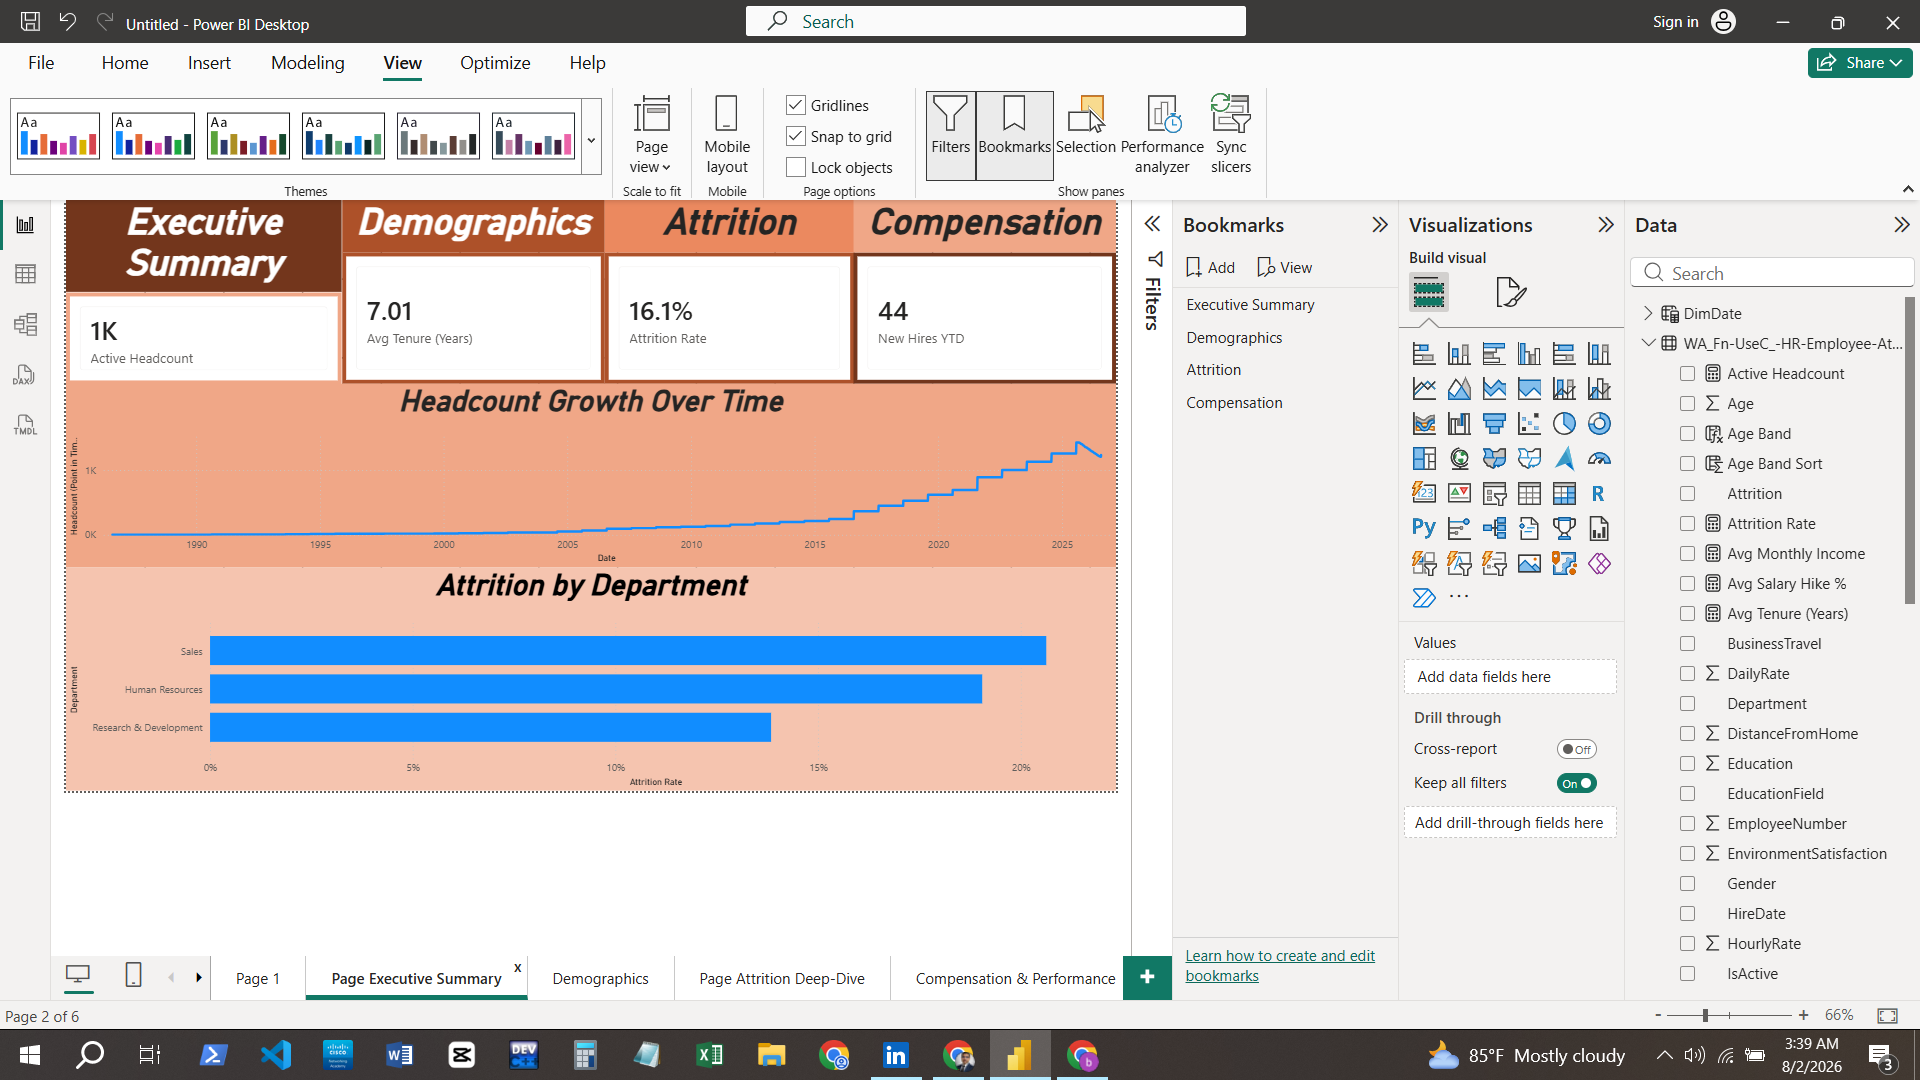

What the dashboard file says about the page in this screenshot:
{"tool":"powerbi","page":{"name":"Page Executive Summary","canvas":[1280,720],"ordinal":0},"visuals":[{"type":"cardVisual","fields":{"Data":["WA_Fn-UseC_-HR-Employee-Attrition.Active Headcount"]},"box":[0,64,384,160],"z":0},{"type":"cardVisual","fields":{"Data":["WA_Fn-UseC_-HR-Employee-Attrition.Attrition Rate"]},"box":[704,64,256,160],"z":1000},{"type":"cardVisual","fields":{"Data":["WA_Fn-UseC_-HR-Employee-Attrition.Avg Tenure (Years)"]},"box":[384,64,320,160],"z":2000},{"type":"cardVisual","fields":{"Data":["WA_Fn-UseC_-HR-Employee-Attrition.New Hires YTD"]},"box":[960,64,320,160],"z":3000},{"type":"lineChart","title":"Headcount Growth Over Time","fields":{"Category":["DimDate.Date"],"Y":["DimDate.Headcount (Point in Time)"]},"box":[0,224,1280,224],"z":4000},{"type":"clusteredBarChart","title":"Attrition by Department","fields":{"Category":["WA_Fn-UseC_-HR-Employee-Attrition.Department"],"Y":["WA_Fn-UseC_-HR-Employee-Attrition.Attrition Rate"]},"box":[0,448,1280,272],"z":5000},{"type":"actionButton","title":"Executive Summary","box":[0,0,432,64],"z":6000},{"type":"actionButton","title":"Demographics","box":[432,0,320,64],"z":7000},{"type":"actionButton","title":"Attrition","box":[752,0,224,64],"z":8000},{"type":"actionButton","title":"Compensation","box":[976,0,304,64],"z":9000}]}

Visuals, with their boxes on the page's 1280x720 design canvas (x1, y1, x2, y2). These are canvas units, not pixel positions in the 1920x1080 screenshot, which may show the page scaled, cropped or inside an application window:
cardVisual - WA_Fn-UseC_-HR-Employee-Attrition.Active Headcount: bbox(0, 64, 384, 224)
cardVisual - WA_Fn-UseC_-HR-Employee-Attrition.Attrition Rate: bbox(704, 64, 960, 224)
cardVisual - WA_Fn-UseC_-HR-Employee-Attrition.Avg Tenure (Years): bbox(384, 64, 704, 224)
cardVisual - WA_Fn-UseC_-HR-Employee-Attrition.New Hires YTD: bbox(960, 64, 1280, 224)
"Headcount Growth Over Time" lineChart: bbox(0, 224, 1280, 448)
"Attrition by Department" clusteredBarChart: bbox(0, 448, 1280, 720)
"Executive Summary" actionButton: bbox(0, 0, 432, 64)
"Demographics" actionButton: bbox(432, 0, 752, 64)
"Attrition" actionButton: bbox(752, 0, 976, 64)
"Compensation" actionButton: bbox(976, 0, 1280, 64)
